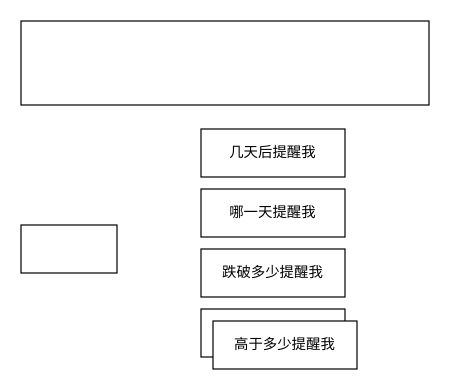
Image size: 450x390. Some labels were removed from this diagram. Here are the shapes that lost their labels. From the top down, the centre of each, then its label:
the point at 224,62: event # 按照时间，记录所有的事件，可以随意指定时间
the point at 68,248: 闹钟
